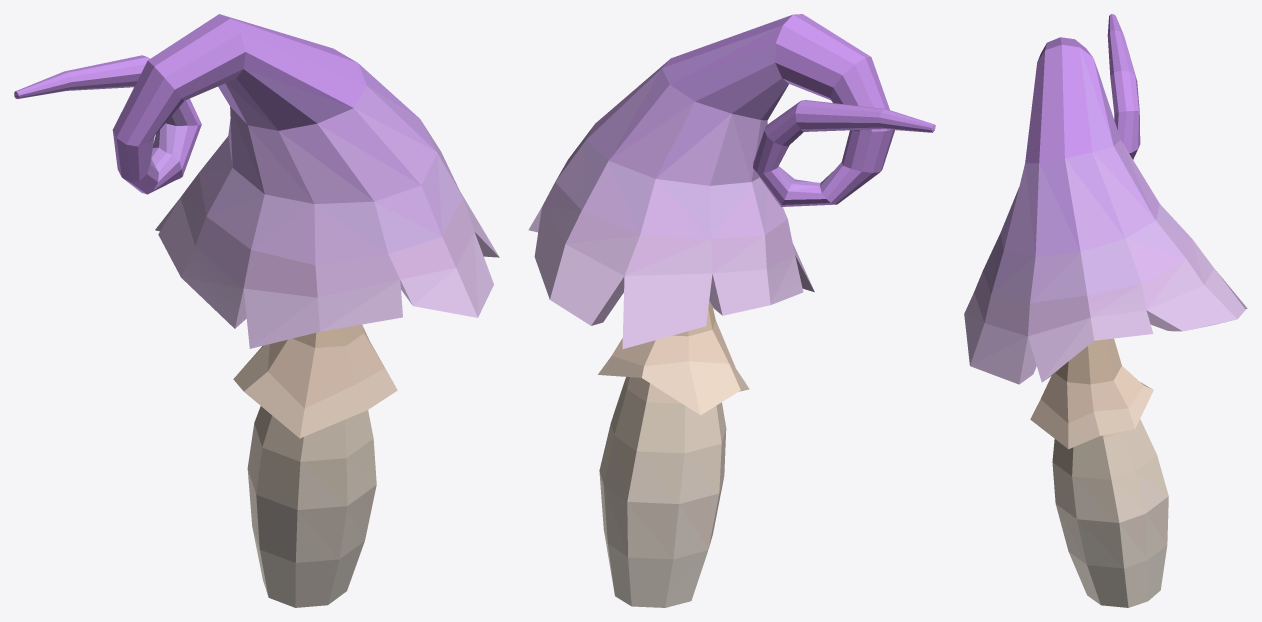
The model's file is mushroom_fantasy_purple_05.glb.
3 renders of one model, left to right at view 1: azimuth 30°, elevation 25°; view 2: azimuth 150°, elevation 25°; view 3: azimuth 270°, elevation 25°, orthographic. The views are drawn at different scales.
Parts seen in each view (by area): view 1: PP_Mushroom_Fantasy_Purple_05.002; view 2: PP_Mushroom_Fantasy_Purple_05.002; view 3: PP_Mushroom_Fantasy_Purple_05.002.
Part boxes in pixels (bbox=[...]): PP_Mushroom_Fantasy_Purple_05.002: bbox=[14, 14, 499, 607]; PP_Mushroom_Fantasy_Purple_05.002: bbox=[528, 14, 935, 607]; PP_Mushroom_Fantasy_Purple_05.002: bbox=[964, 14, 1247, 607].
Size of the model in its own units: 0.4578 by 0.6202 by 0.315.
